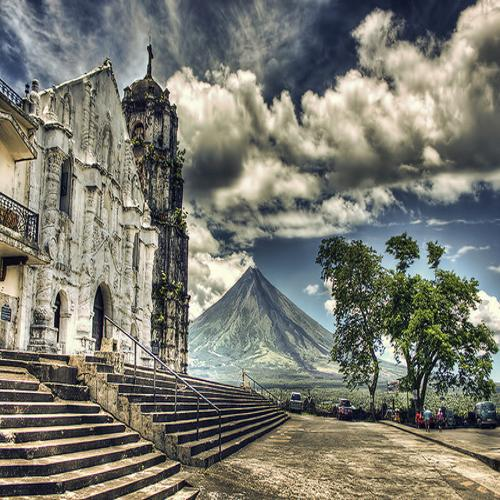Daraga Church: (3, 12, 191, 375)
